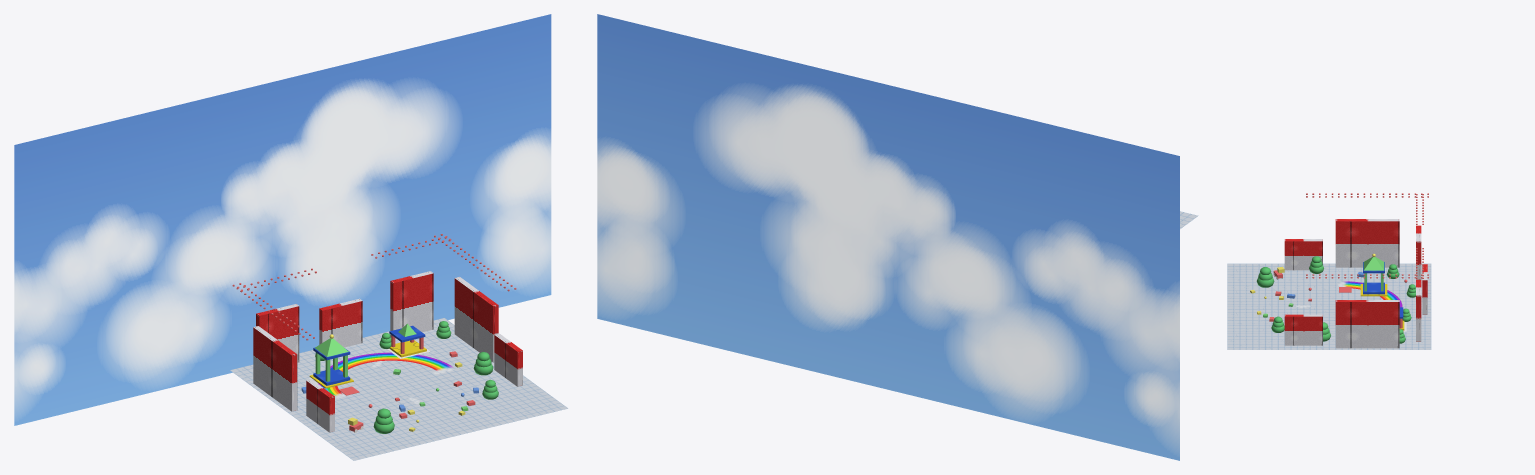
3 views of the same model, side by side, from view 1: azimuth 30°, elevation 25°; view 2: azimuth 150°, elevation 25°; view 3: azimuth 270°, elevation 25° (orthographic). The views are drawn at different scales.
Visible parts, largest first — view 1: SkyBackdrop, TileFloor, Wall_Left, Wall_Right, Wall_Back_Right, Wall_Back_Center, Wall_Back_Left, Wall_RightFront, Wall_LeftFront, Rainbow_1; view 2: SkyBackdrop; view 3: TileFloor, Wall_Right, Wall_Left, Wall_RightFront, Wall_LeftFront, Wall_Back_Right, Wall_Back_Left.
Boxes of the visible parts, left/top/right/bottom form: SkyBackdrop: left=14, top=14, right=551, bottom=425; TileFloor: left=230, top=318, right=567, bottom=460; Wall_Left: left=253, top=326, right=297, bottom=411; Wall_Right: left=454, top=277, right=498, bottom=362; Wall_Back_Right: left=390, top=271, right=433, bottom=338; Wall_Back_Center: left=319, top=298, right=362, bottom=347; Wall_Back_Left: left=256, top=304, right=299, bottom=362; Wall_RightFront: left=494, top=333, right=522, bottom=386; Wall_LeftFront: left=306, top=379, right=334, bottom=432; Rainbow_1: left=318, top=352, right=453, bottom=395; SkyBackdrop: left=597, top=14, right=1179, bottom=460; TileFloor: left=1227, top=263, right=1431, bottom=349; Wall_Right: left=1335, top=300, right=1399, bottom=348; Wall_Left: left=1335, top=219, right=1399, bottom=267; Wall_RightFront: left=1284, top=314, right=1322, bottom=345; Wall_LeftFront: left=1284, top=239, right=1322, bottom=270; Wall_Back_Right: left=1416, top=279, right=1421, bottom=341; Wall_Back_Left: left=1416, top=225, right=1421, bottom=279.
Size of the model in its own units: 80 by 40 by 46.
13 materials, 7 textured.
